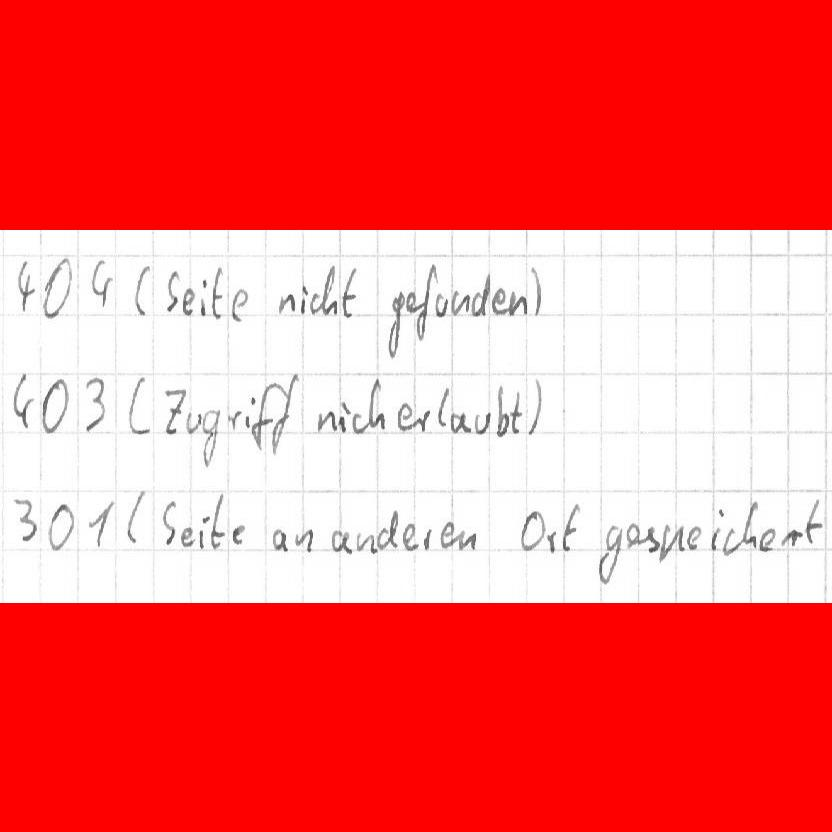Char: (271, 370, 301, 455), (40, 254, 75, 319), (125, 371, 154, 437), (249, 381, 276, 451), (10, 369, 38, 432), (82, 374, 112, 432), (41, 376, 71, 433), (414, 262, 436, 339), (46, 497, 77, 551), (86, 498, 117, 550), (597, 523, 623, 583), (9, 495, 39, 545), (89, 255, 113, 311), (518, 506, 546, 554), (162, 385, 187, 437), (560, 500, 585, 551), (209, 488, 229, 551), (133, 262, 154, 320), (339, 264, 361, 319), (201, 407, 221, 467), (376, 505, 401, 553), (803, 495, 825, 549), (368, 378, 389, 434), (15, 258, 36, 313), (158, 496, 179, 551), (527, 262, 547, 319), (320, 263, 341, 317), (491, 382, 512, 436), (387, 288, 403, 358), (659, 522, 686, 562), (128, 487, 146, 545), (162, 267, 182, 317), (471, 270, 491, 318), (742, 500, 759, 552), (707, 505, 726, 551), (212, 265, 227, 322), (327, 526, 354, 557), (489, 282, 510, 318), (292, 526, 317, 555), (395, 399, 416, 433), (449, 288, 472, 319), (507, 287, 530, 318), (231, 286, 250, 323), (640, 522, 661, 555), (511, 387, 525, 436), (434, 385, 450, 427), (400, 522, 421, 554), (454, 527, 478, 555), (268, 525, 291, 554), (194, 511, 211, 550), (722, 521, 740, 557), (448, 406, 470, 435), (780, 525, 804, 551), (315, 407, 338, 434), (355, 529, 377, 555), (183, 407, 203, 435), (625, 517, 641, 551), (760, 524, 777, 556), (686, 521, 704, 551), (438, 518, 455, 549), (231, 520, 249, 548), (277, 289, 295, 315), (338, 398, 351, 434), (473, 409, 491, 435), (432, 289, 447, 319), (180, 285, 194, 317), (198, 276, 208, 320), (418, 405, 432, 436), (178, 523, 194, 550), (225, 407, 242, 432), (405, 287, 419, 316), (352, 408, 367, 435), (544, 525, 558, 553), (421, 525, 434, 552), (246, 394, 256, 429), (300, 284, 310, 318), (311, 289, 321, 315)
